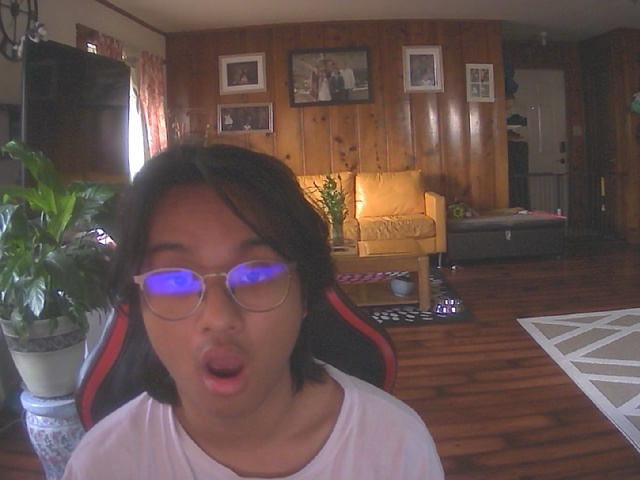fear: (127, 165, 320, 418)
